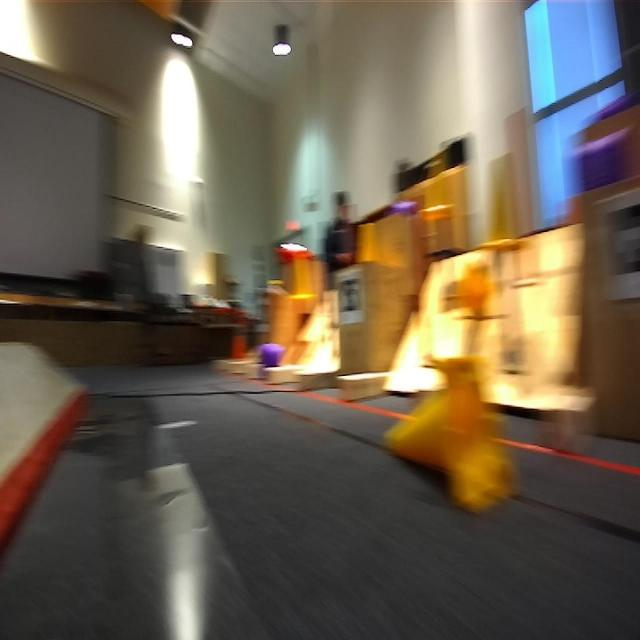frc_cone: (384, 357, 518, 514), (489, 154, 529, 249), (424, 143, 456, 217), (462, 262, 494, 316), (287, 252, 313, 306), (354, 224, 377, 265)
frc_cube: (578, 133, 622, 190), (595, 96, 627, 120), (260, 342, 281, 372), (390, 198, 420, 212)
